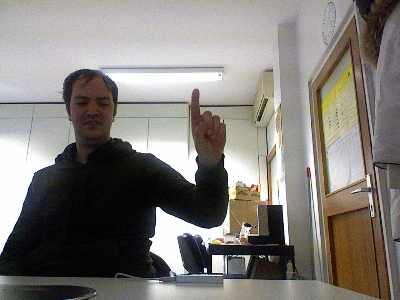食指: (191, 87, 226, 162)
